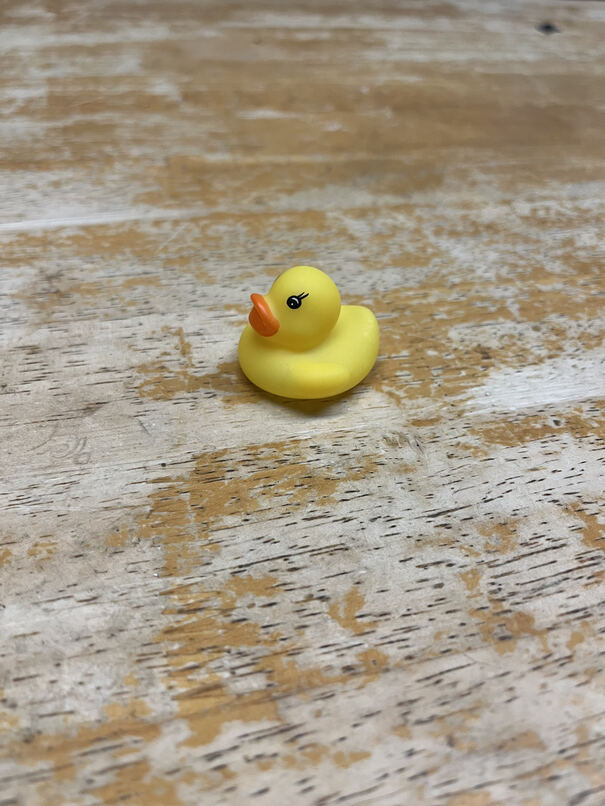duck_regular: (237, 265, 387, 399)
